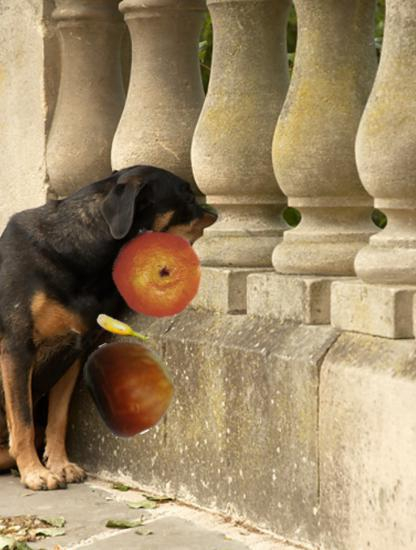Banana: (94, 301, 153, 360)
Clementine: (110, 226, 203, 319)
Nut: (82, 336, 180, 434)
